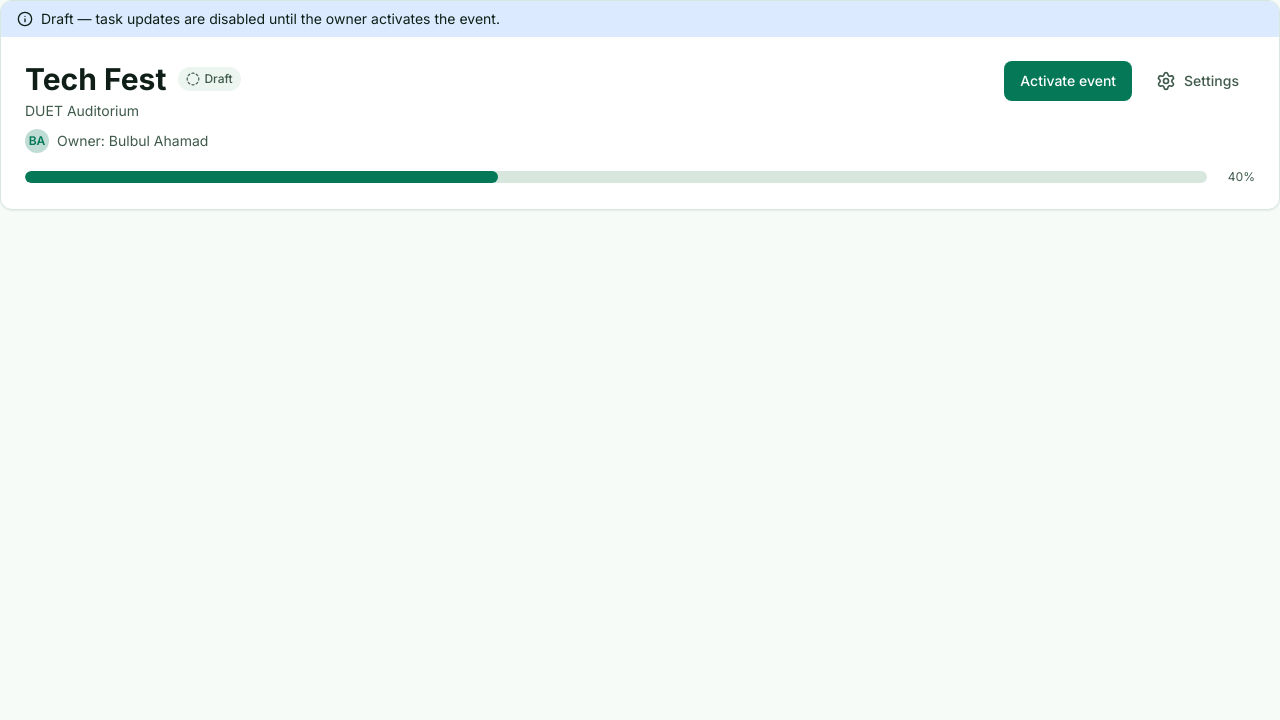
Test: EventHeader › confirms before changing status, then calls the action and refreshes
This screenshot has width=1280, height=720.
Later steps or results of the test are not shown.
Click the button "Activate event" at (1068, 81), box [1004,61,1132,101]
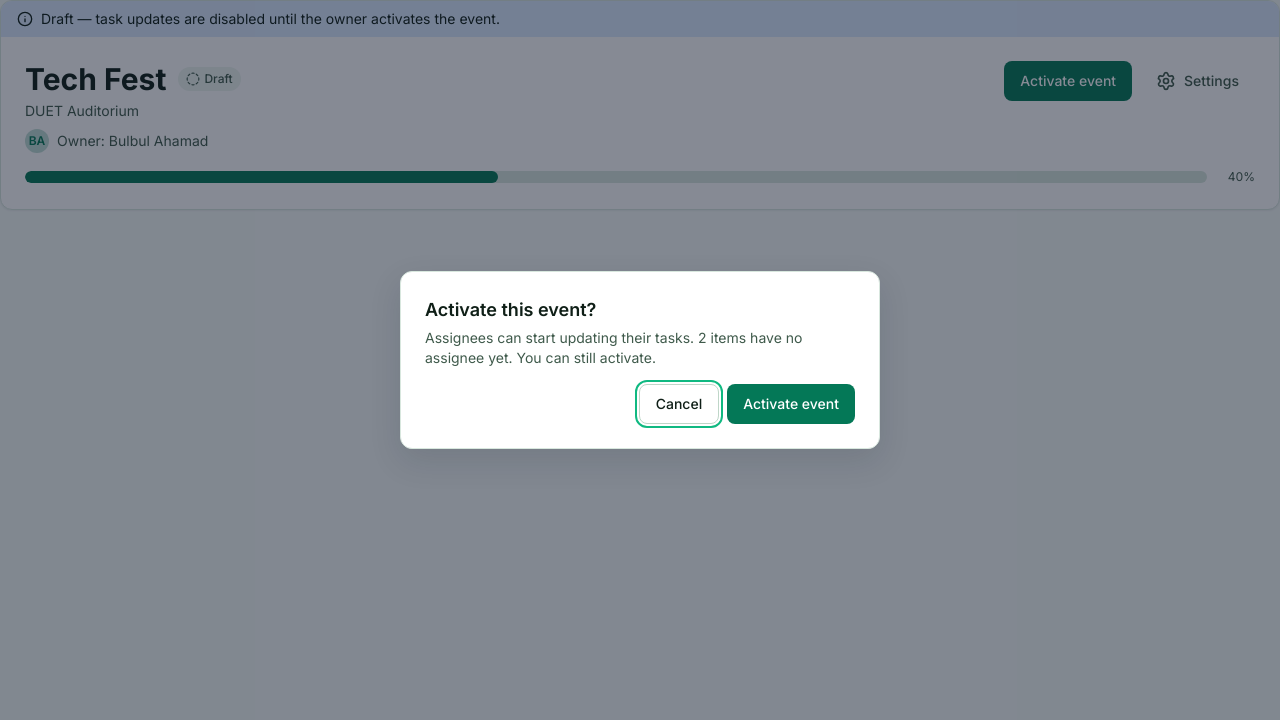
Now the text "2 items have no assignee yet" is shown, box [425,329,802,366]
